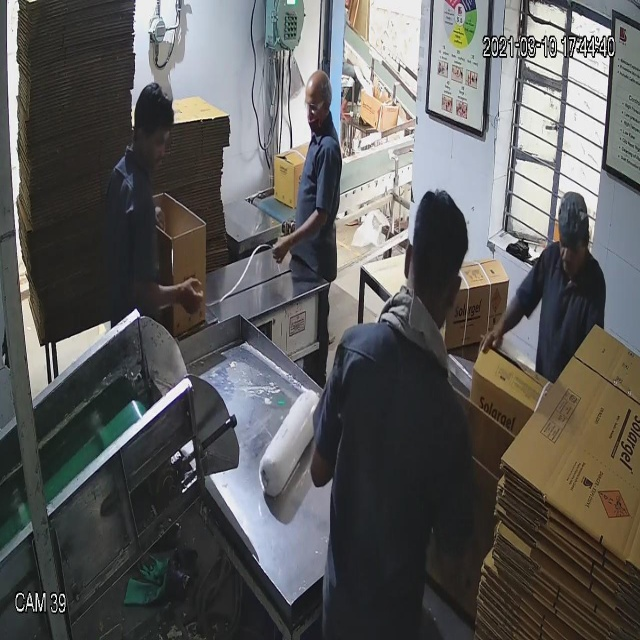Sin_guantes: (128, 264, 210, 336), (471, 276, 520, 381), (270, 200, 329, 271)
